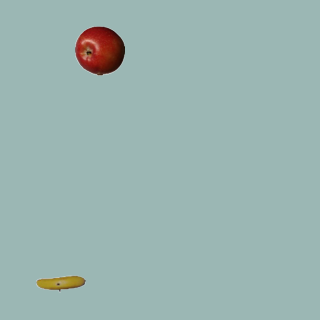Apple Braeburn: (74, 25, 124, 75)
Banana: (35, 258, 85, 308)
